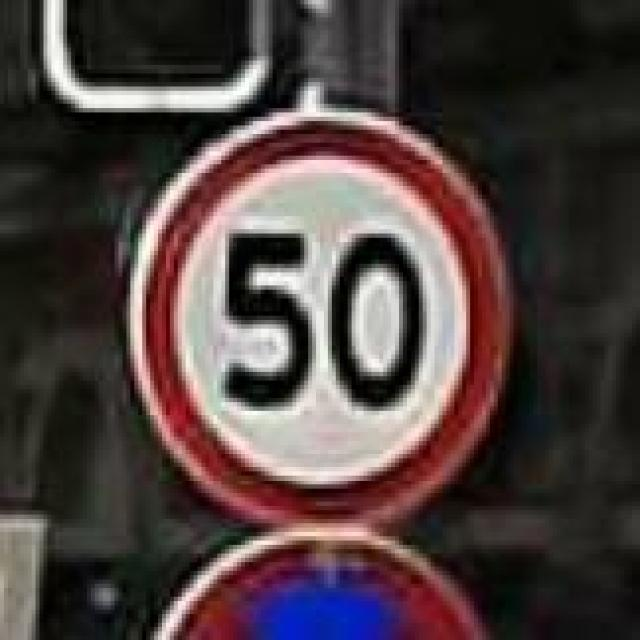speed limit 50: (125, 111, 512, 531)
